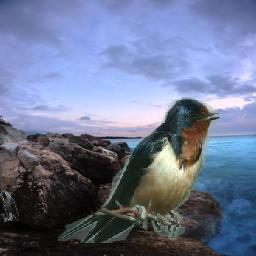Crow: (0, 191, 19, 222)
Swallow: (58, 97, 220, 243)
